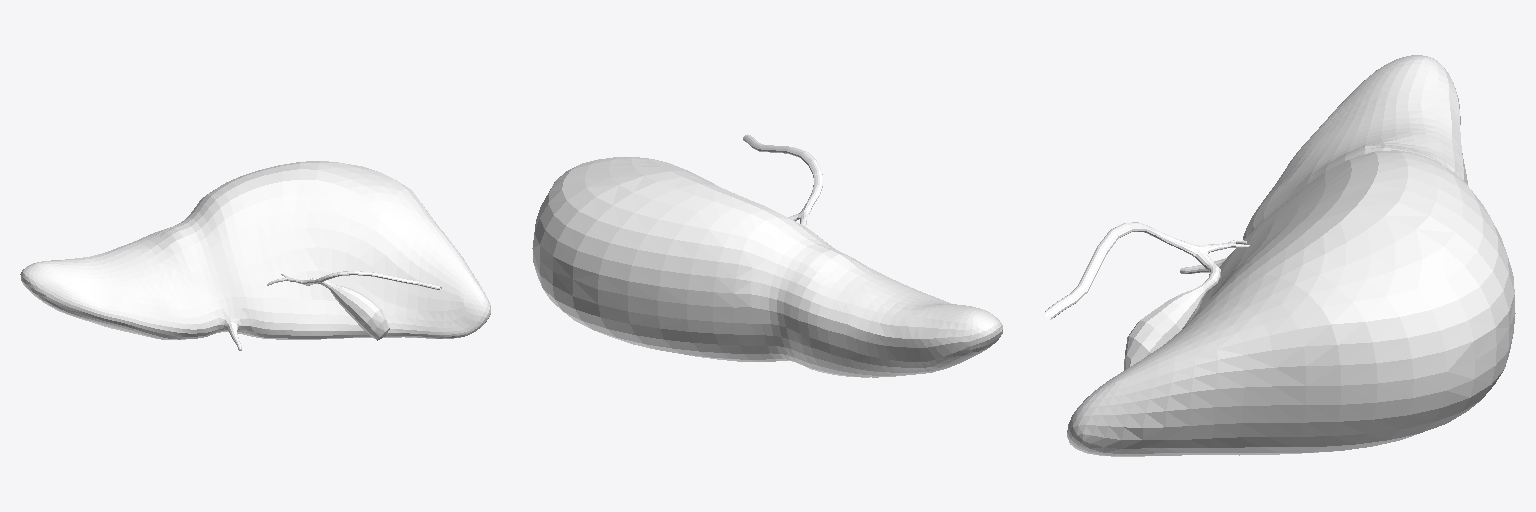
The robot description file, URDF, robot "Liver_and_pancreas.urdf":
<?xml version="1.0" ?>
<robot name="Liver_and_pancreas.urdf">
  <link name="baseLink">
    <inertial>
      <origin rpy="0 0 0" xyz="0 0 0"/>
       <mass value="0.0"/>
       <inertia ixx="0" ixy="0" ixz="0" iyy="0" iyz="0" izz="0"/>
    </inertial>
    <visual>
      <origin rpy="0 0 0" xyz="0 0 0"/>
      <geometry>
        <mesh filename="Liver_and_pancreas.obj" scale="1.0 1.0 1.0"/>
      </geometry>
      <material name="white">
       <color rgba="1 1 1 1"/>
     </material>
    </visual>
    <collision>
      <origin rpy="0 0 0" xyz="0 0 0"/>
      <geometry>
        <mesh filename="Liver_and_pancreas.obj" scale="1.0 1.0 1.0"/>
        <!-- You could also specify the collision (for the Liver_and_pancreas) with a "box" tag: -->
        <!-- <box size=".06 .06 .06"/> -->
      </geometry>
    </collision>
  </link>
</robot>
        

--- What the picture shows (computed from the rendered views, not written in the file) ---
Views: 3 orthographic renders of the robot side by side, from view 1: azimuth 30°, elevation 25°; view 2: azimuth 150°, elevation 25°; view 3: azimuth 270°, elevation 25°.
Model Liver_and_pancreas.urdf with 1 links and 0 joints (none), rooted at baseLink, posed all joints at 0.
Visible links, largest first — view 1: baseLink; view 2: baseLink; view 3: baseLink.
Boxes of the visible links, box(x1,y1,x2,y2) form: baseLink: box(20, 161, 490, 350); baseLink: box(532, 134, 1002, 377); baseLink: box(1045, 55, 1515, 456).
Size in the robot's own frame: 0.2018 by 0.1337 by 0.0656 metres.
Meshes: 1 distinct files referenced, 1 mesh visuals loaded (1 OBJ).